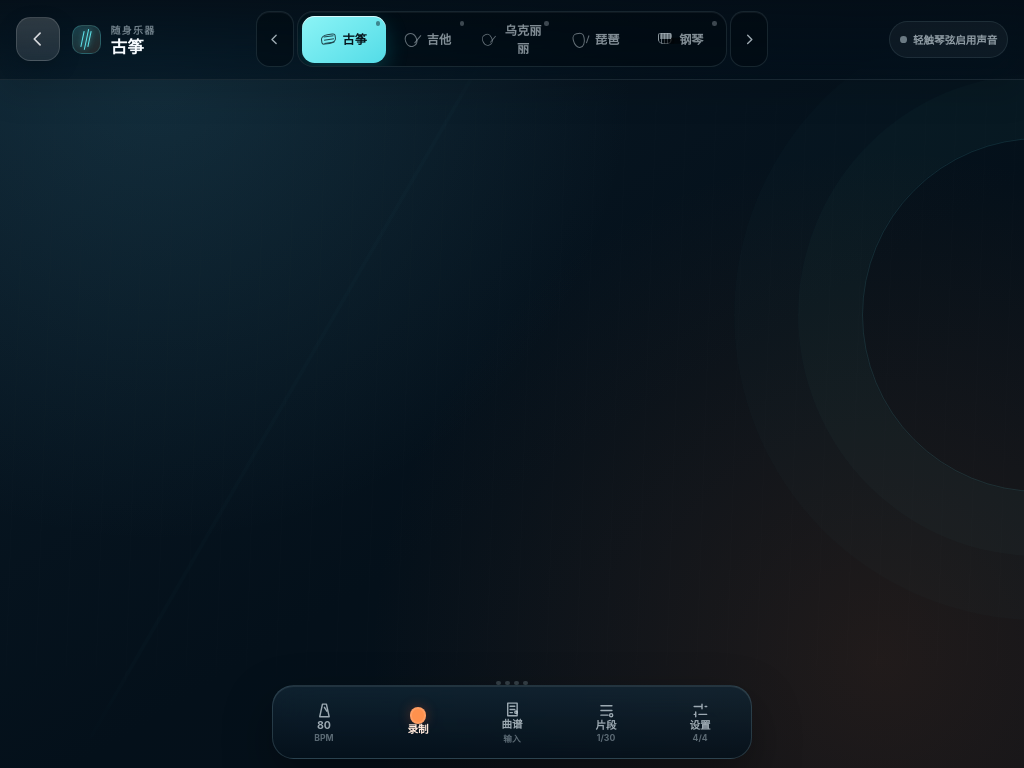
Test case: 随身乐器页面流程 › 录音列表只展示当前乐器片段
Click the button with aria-label "打开已保存的练习录音列表": (606, 722) [562, 693, 650, 751]
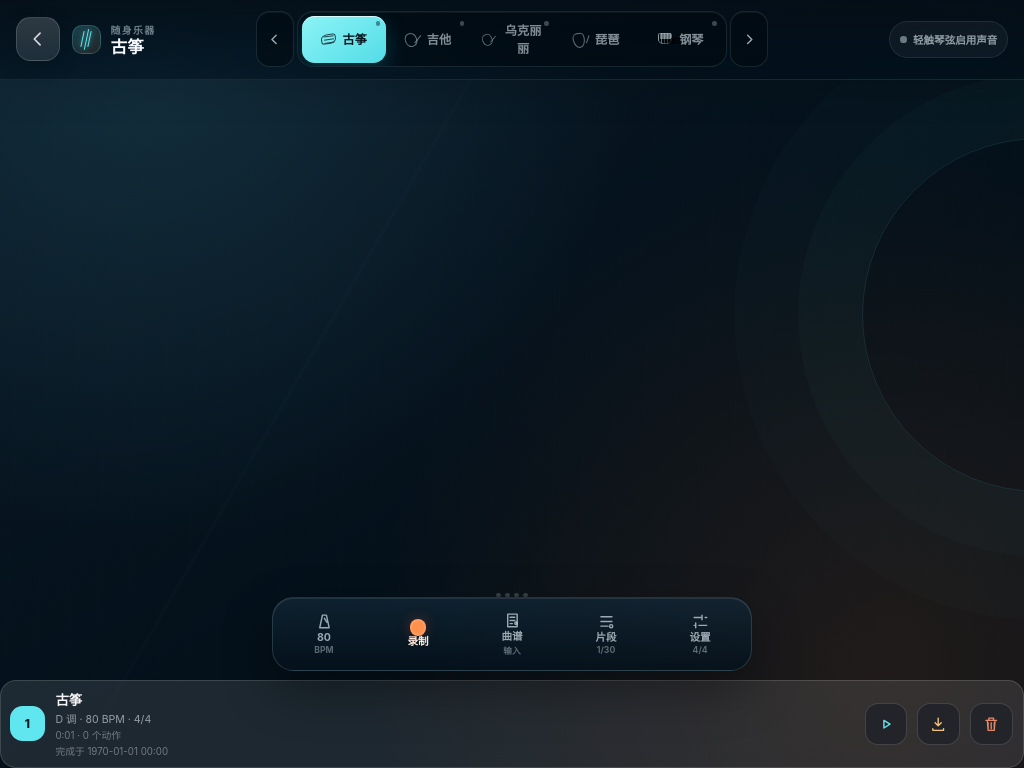
Result: the number of elements with class "take-card" is 1 at [0, 680, 1023, 767]
Result: the dialog shows "D 调" at [55, 713, 151, 726]
